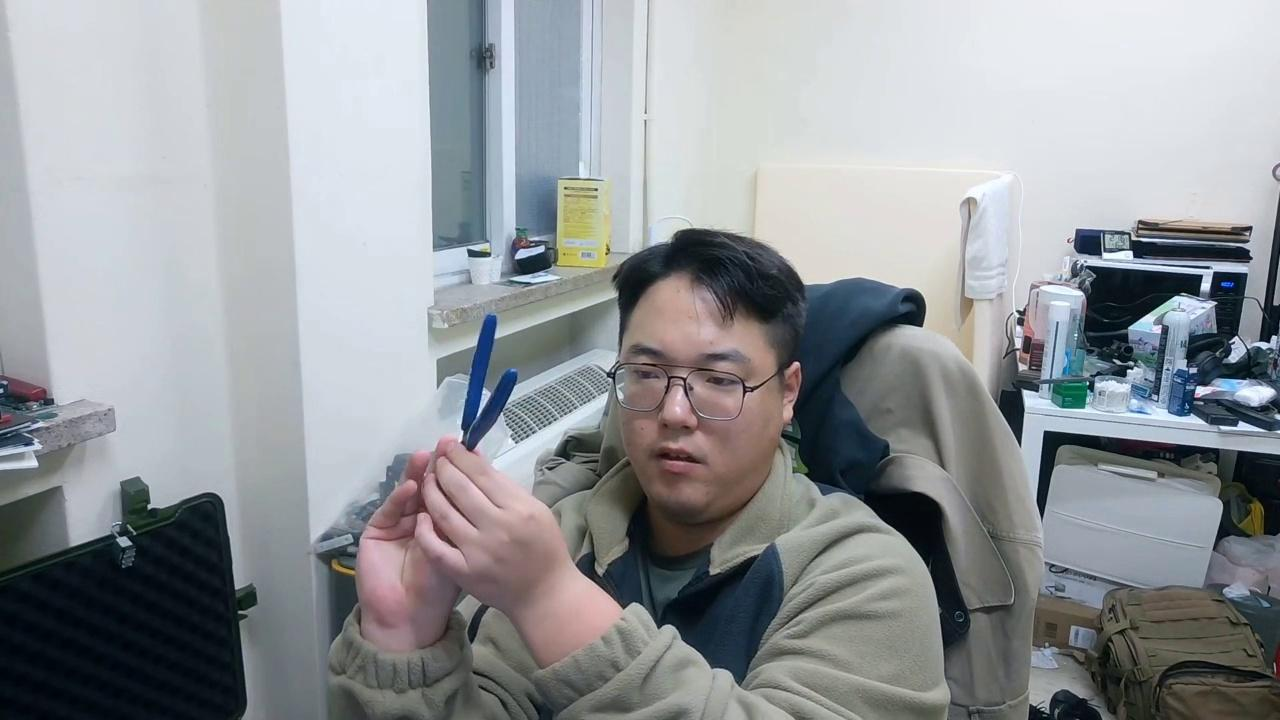blue_pliers: (459, 311, 520, 453)
